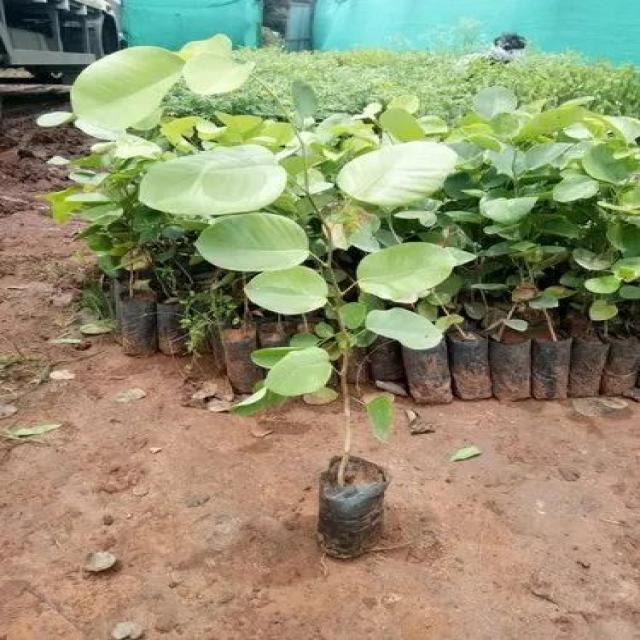Medicinal-Sandalwood: (79, 26, 640, 466)
